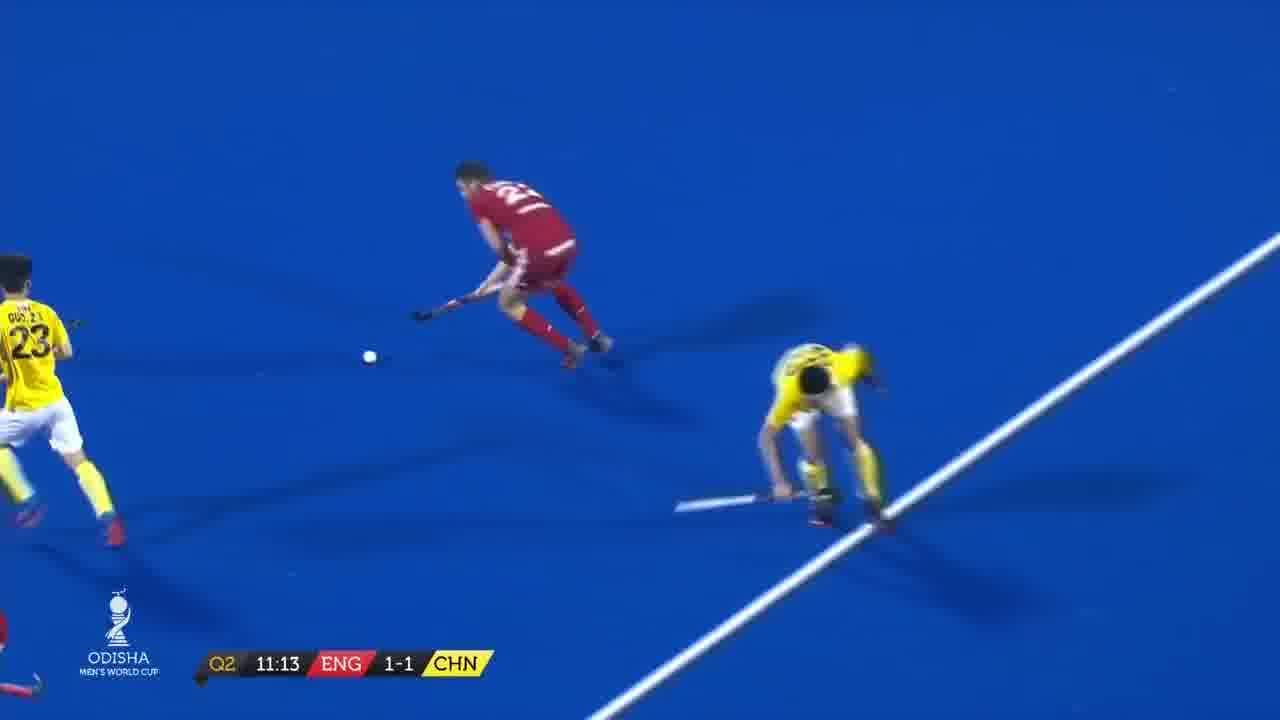ball: (357, 347, 389, 375)
